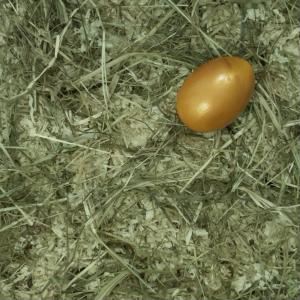egg: (177, 56, 255, 132)
